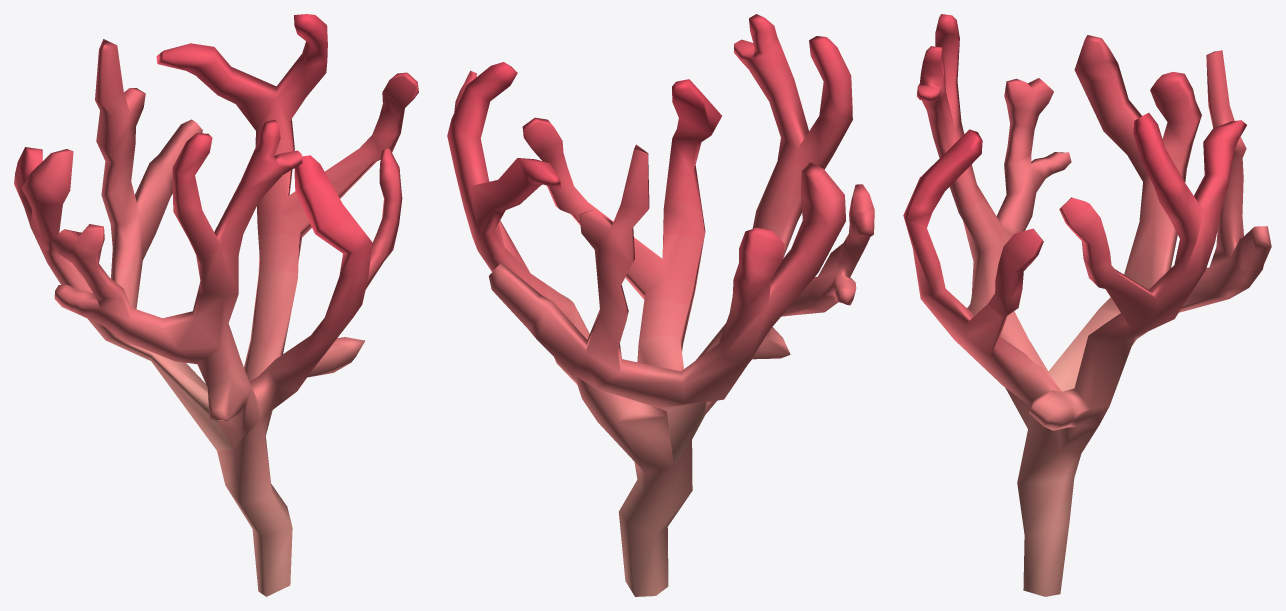
File: CoralNB.fbx
3 views of the same model, side by side, from view 1: azimuth 30°, elevation 25°; view 2: azimuth 150°, elevation 25°; view 3: azimuth 270°, elevation 25° (orthographic). The views are drawn at different scales.
Visible parts, largest first — view 1: CoralNB; view 2: CoralNB; view 3: CoralNB.
Boxes of the visible parts, bbox=[...] form: CoralNB: bbox=[14, 14, 418, 596]; CoralNB: bbox=[447, 14, 874, 596]; CoralNB: bbox=[903, 14, 1271, 596].
Size of the model in its own units: 61.11 by 80.05 by 51.27.
1 material, 1 textured.
